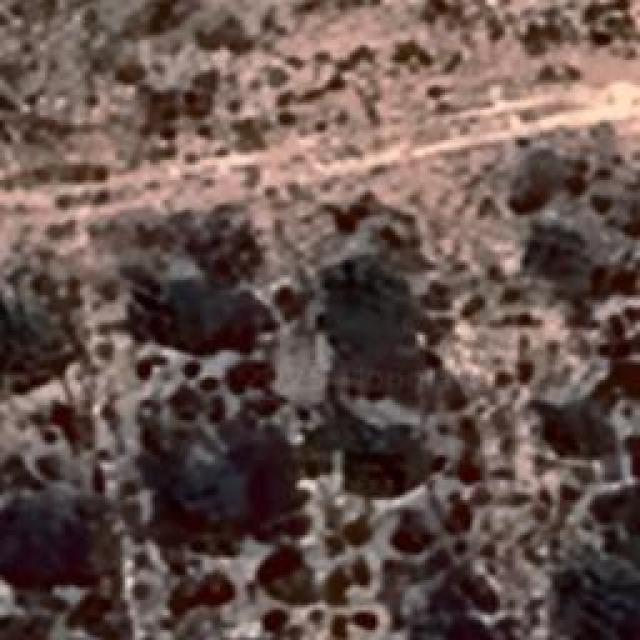PalmTree: (74, 66, 564, 301), (156, 434, 244, 542), (542, 545, 640, 640), (342, 432, 440, 516), (538, 389, 634, 469), (4, 490, 76, 580), (150, 268, 230, 342), (0, 280, 55, 375)
